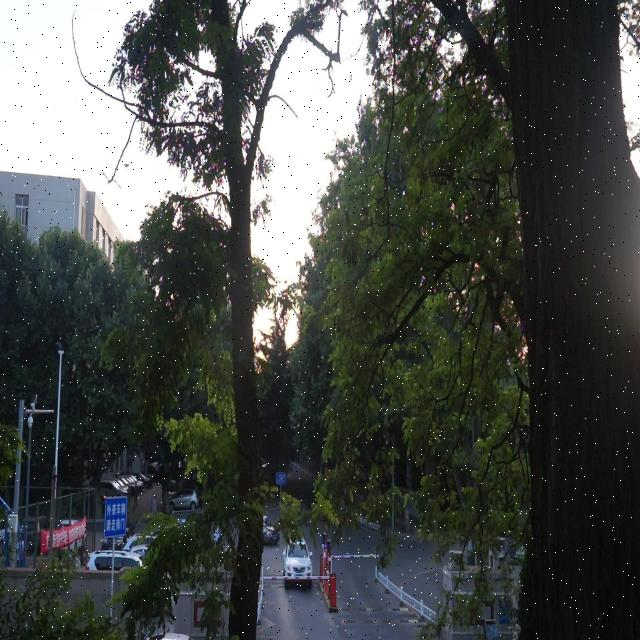UAV: (124, 164, 130, 167)
